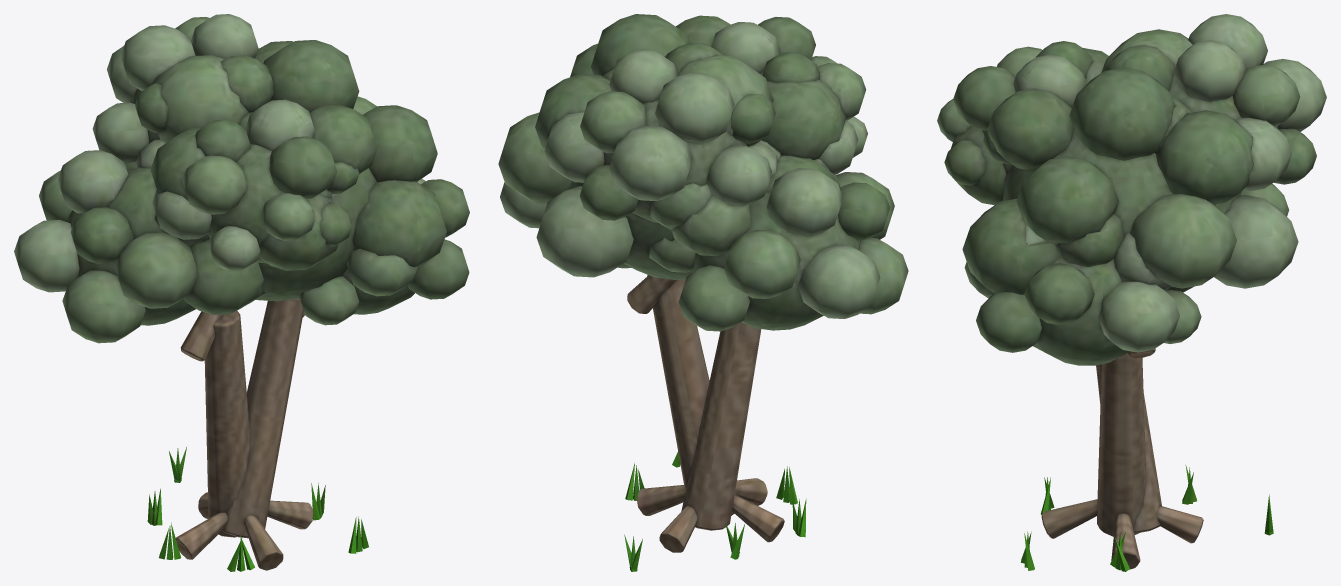
The model's file is olive_tree.glb.
3 renders of one model, left to right at view 1: azimuth 30°, elevation 25°; view 2: azimuth 150°, elevation 25°; view 3: azimuth 270°, elevation 25°, orthographic. The views are drawn at different scales.
Visible parts, largest first — view 1: crown, olive_tree; view 2: crown, olive_tree; view 3: crown, olive_tree.
Boxes of the visible parts, left/top/right/bottom form: crown: left=14, top=14, right=469, bottom=343; olive_tree: left=147, top=298, right=368, bottom=571; crown: left=498, top=14, right=908, bottom=331; olive_tree: left=624, top=275, right=806, bottom=571; crown: left=937, top=14, right=1326, bottom=365; olive_tree: left=1021, top=348, right=1273, bottom=571.
Size of the model in its own units: 1.05 by 1.27 by 0.882.
Materials: 1 (1 with a texture image).
